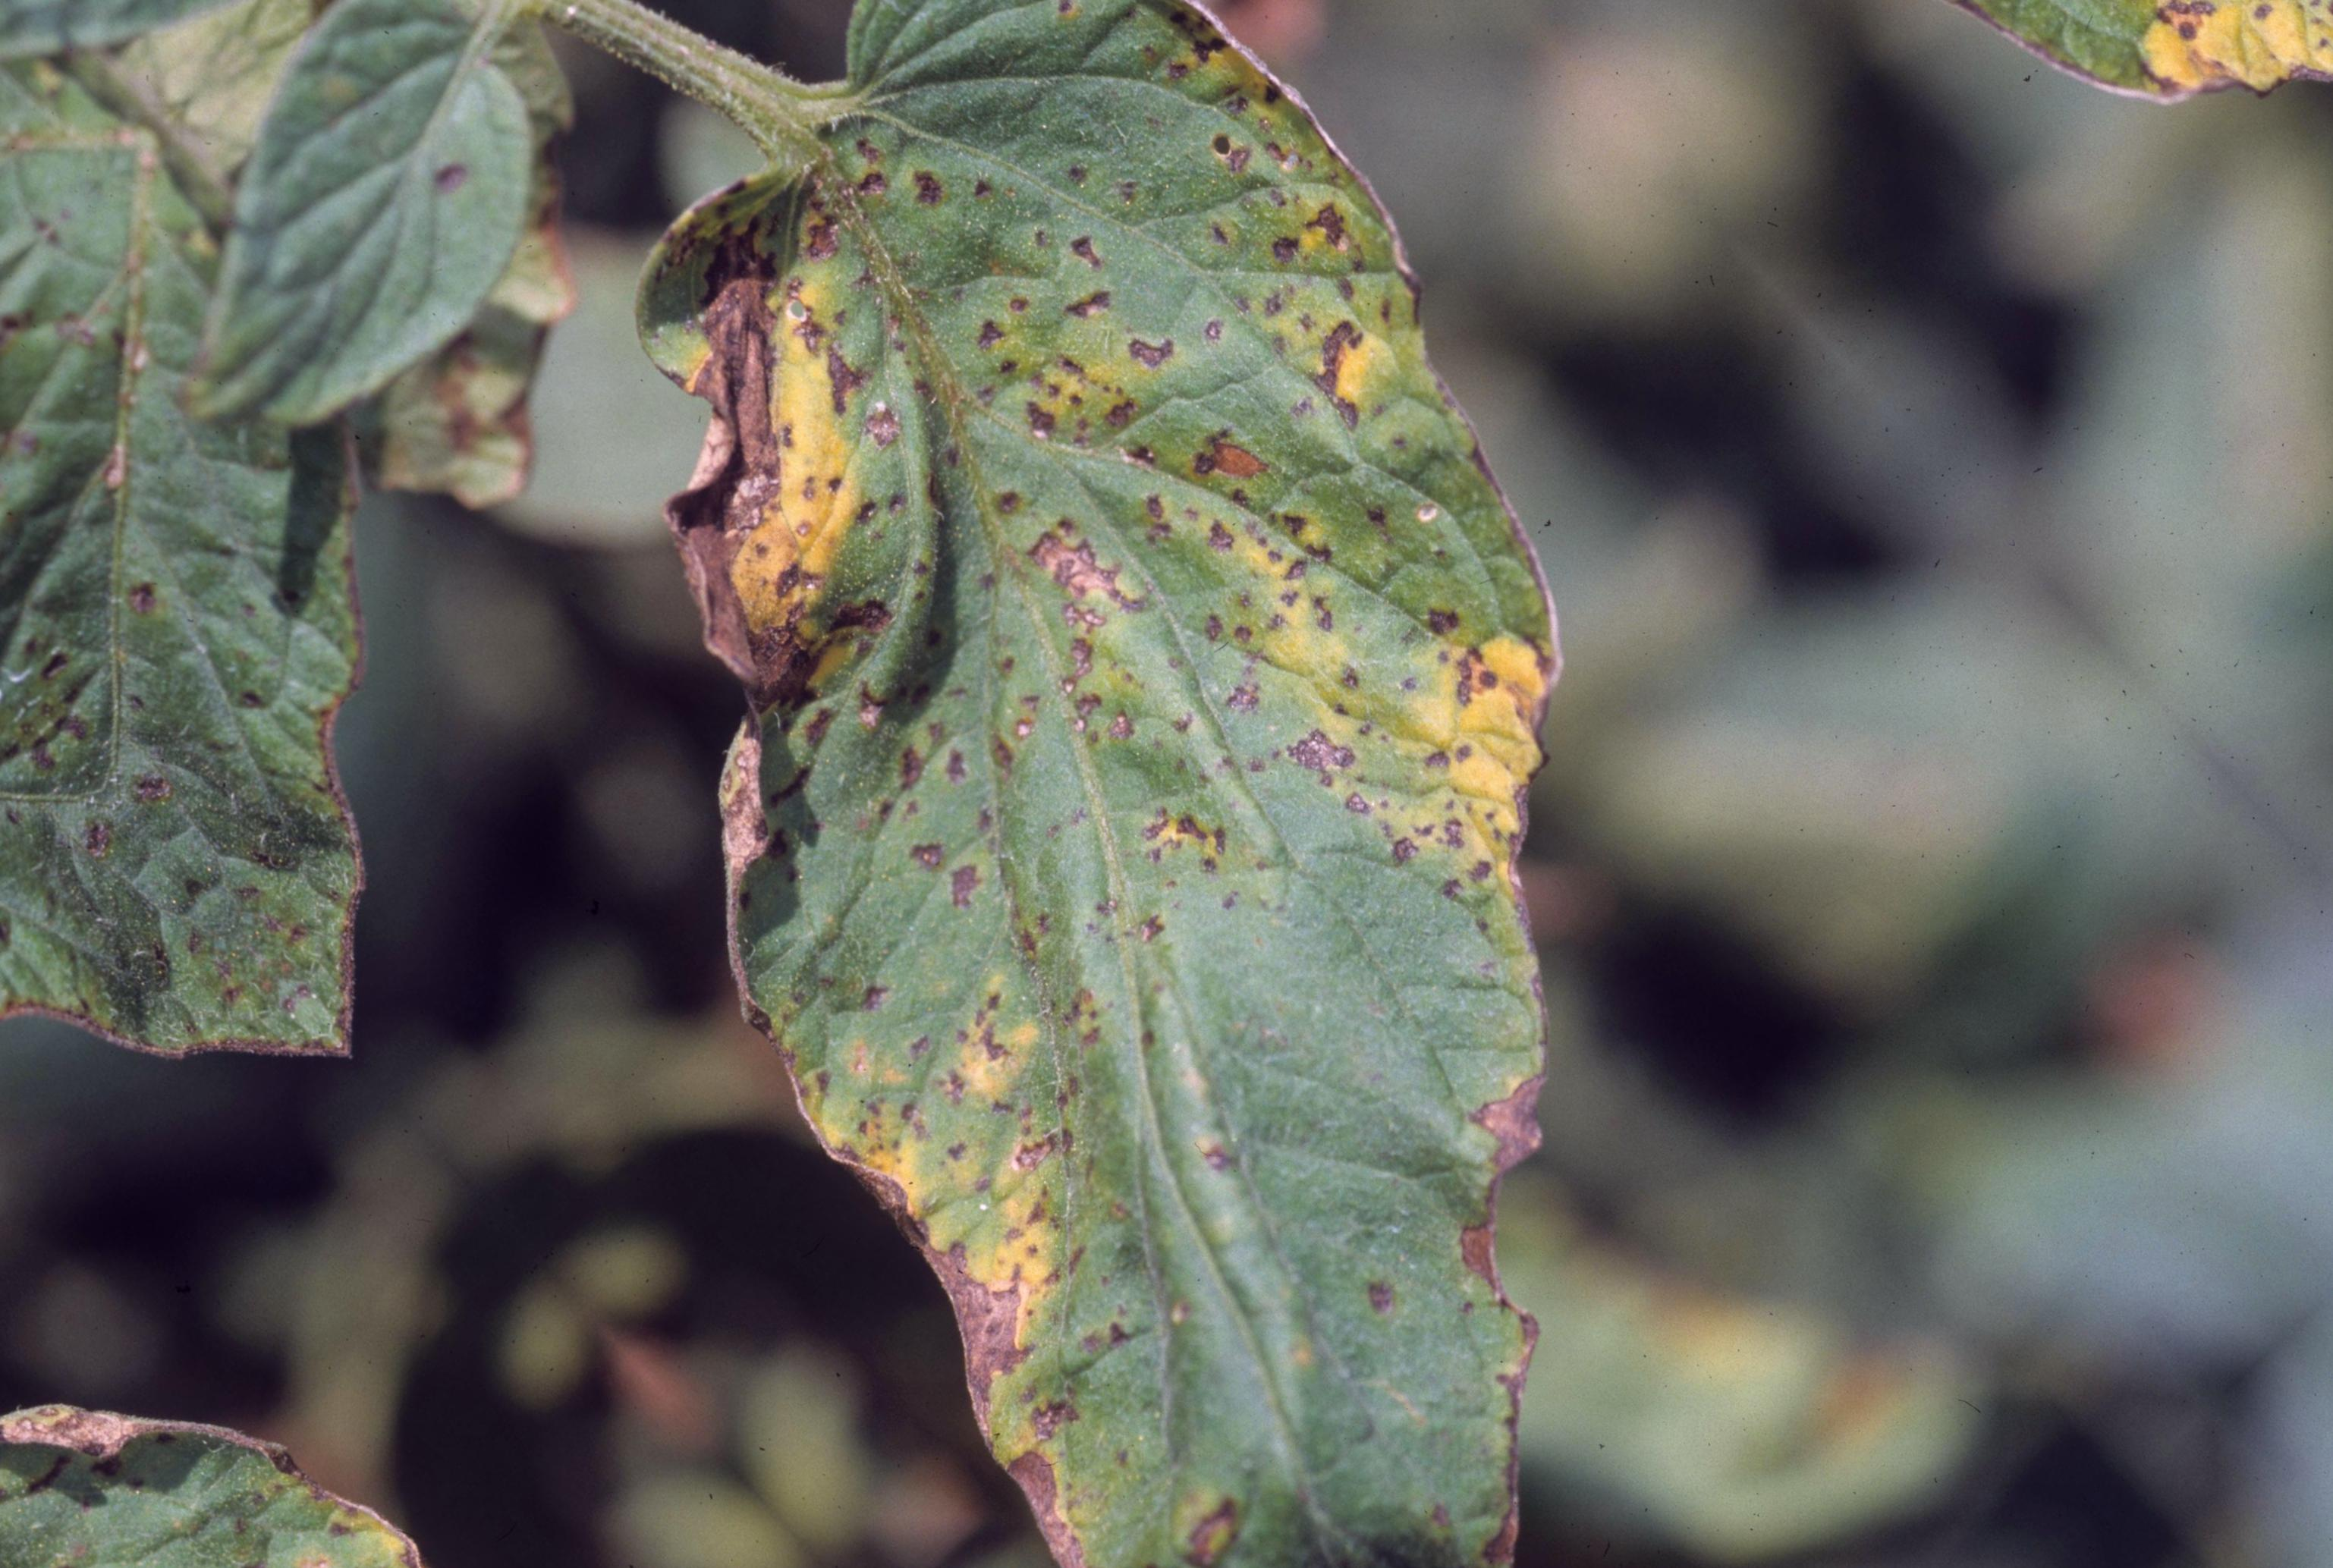Tomato leaf bacterial spot: (32, 0, 2324, 1568)
